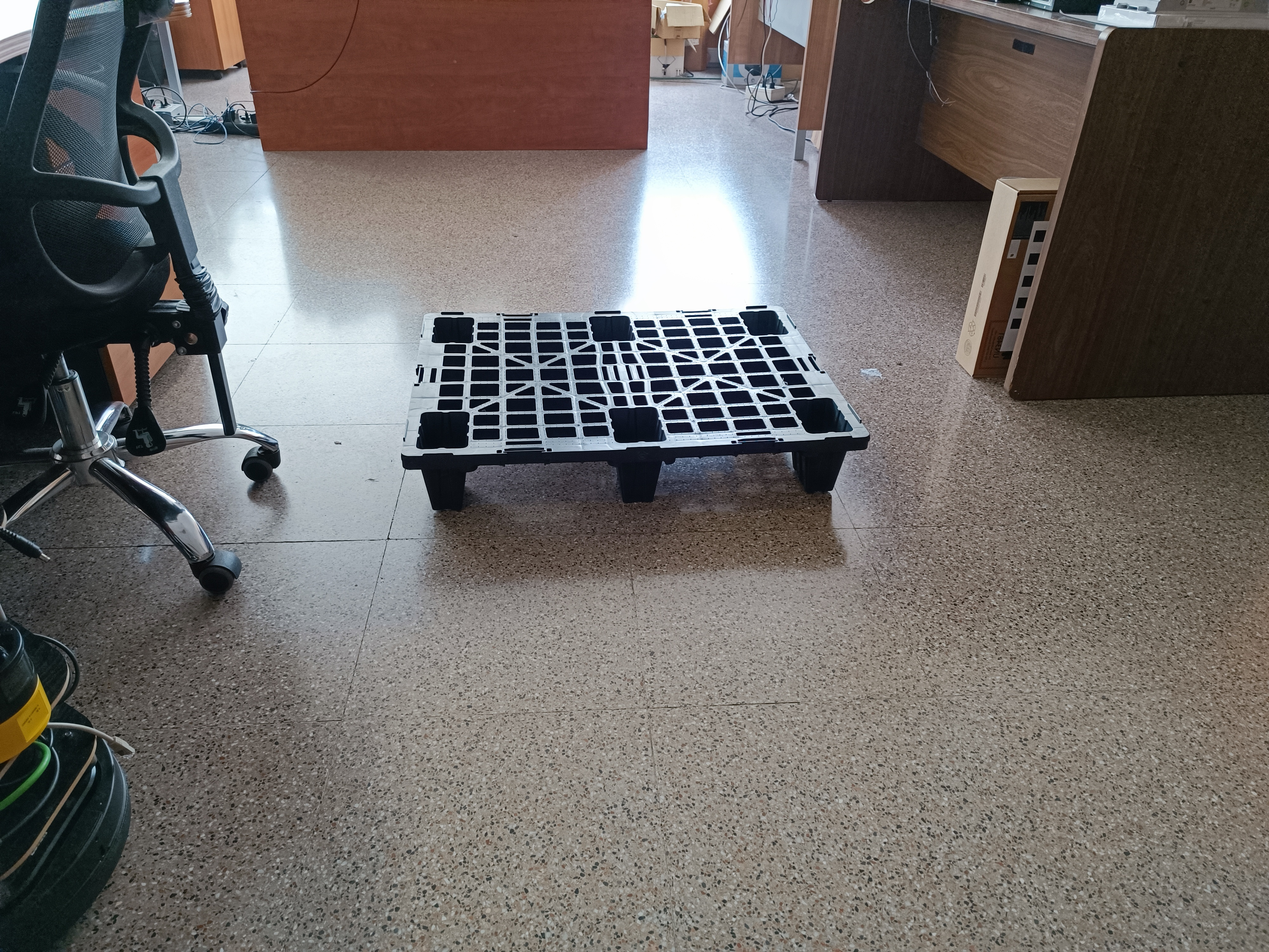block: (419, 462, 472, 520), (793, 445, 853, 495), (617, 456, 666, 504)
front: (404, 430, 877, 518)
hole pallet: (468, 456, 622, 511), (661, 447, 807, 495)
